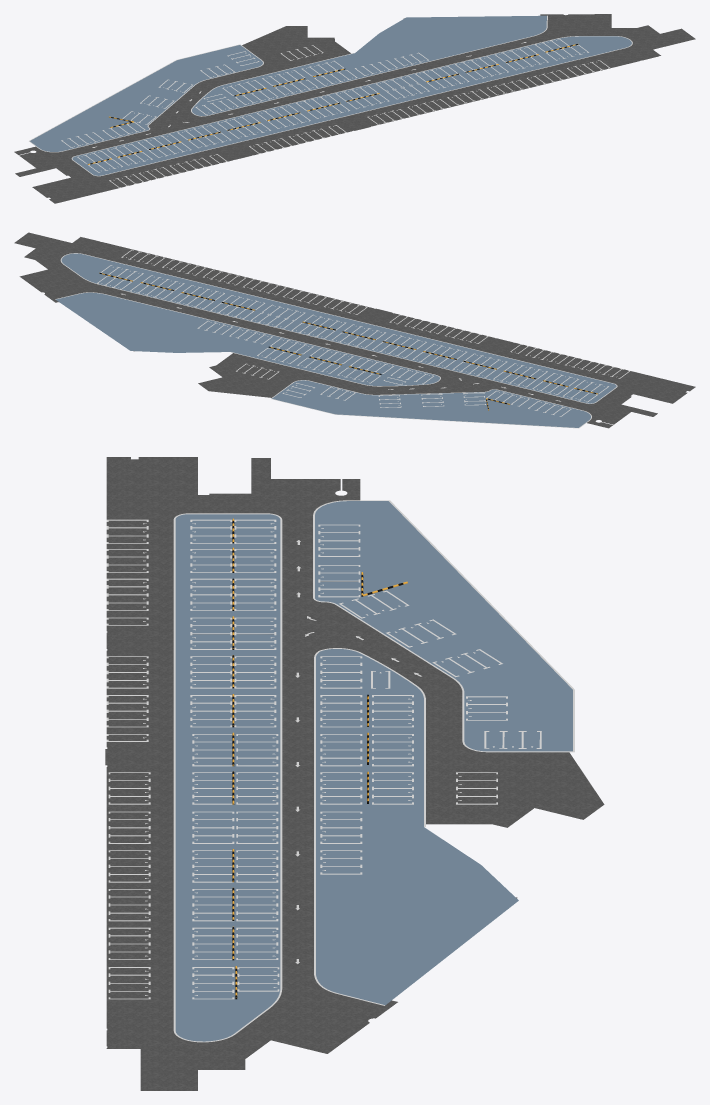
File: WPLFloor.fbx
The picture shows the model from 3 angles, top to bottom: view 1: azimuth 30°, elevation 25°; view 2: azimuth 150°, elevation 25°; view 3: azimuth 270°, elevation 25°; orthographic projection. The views are drawn at different scales.
Parts seen in each view (by area): view 1: Floor.Shape; view 2: Floor.Shape; view 3: Floor.Shape.
Boxes of the visible parts, left/top/right/bottom form: Floor.Shape: left=14, top=14, right=695, bottom=203; Floor.Shape: left=14, top=232, right=695, bottom=428; Floor.Shape: left=105, top=457, right=604, bottom=1090.
Size of the model in its own units: 14690 by 15.02 by 4887.
Materials: 4 (2 with a texture image).
